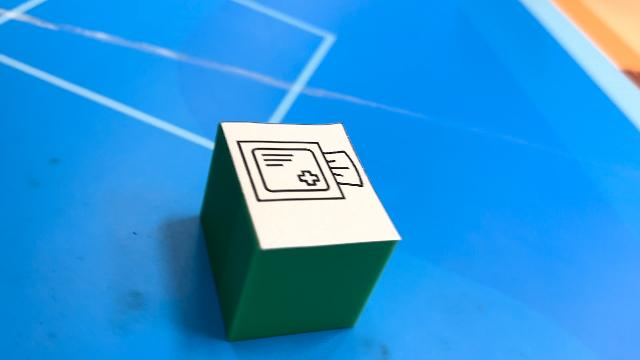napkin: (198, 118, 404, 342)
